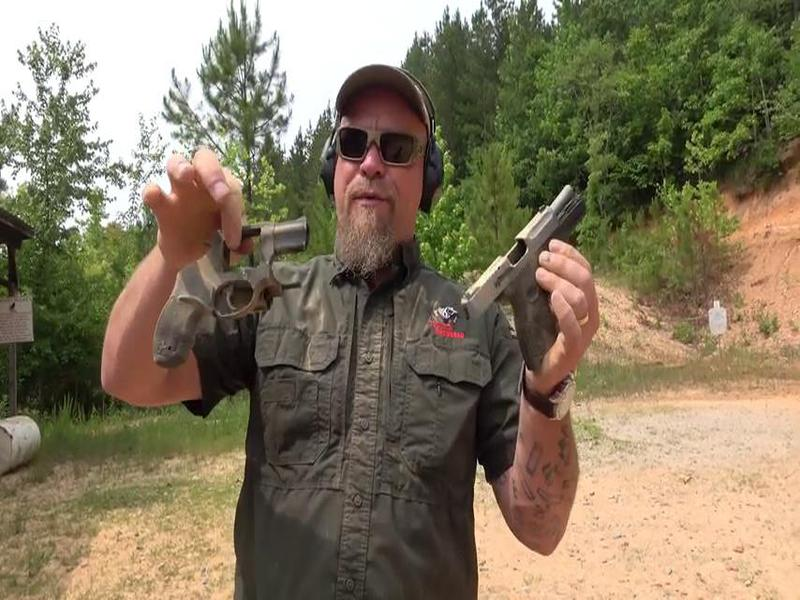Pistola: (467, 176, 596, 370)
